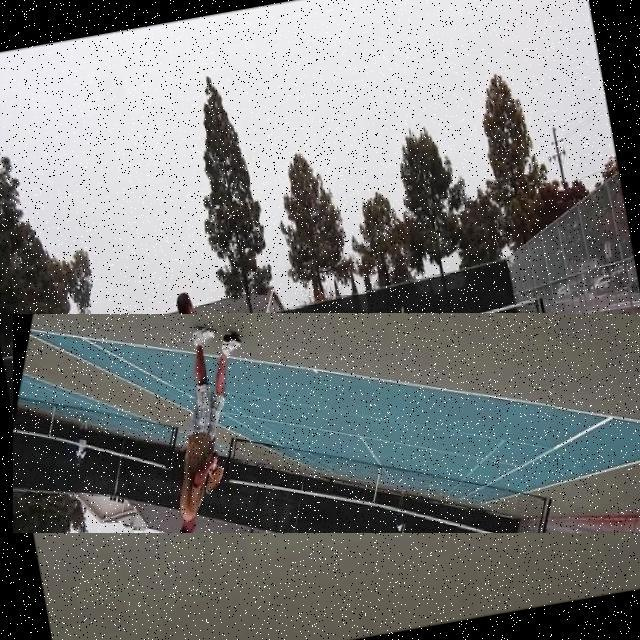court: (13, 314, 640, 533)
net: (220, 296, 555, 412)
player: (154, 287, 248, 522)
